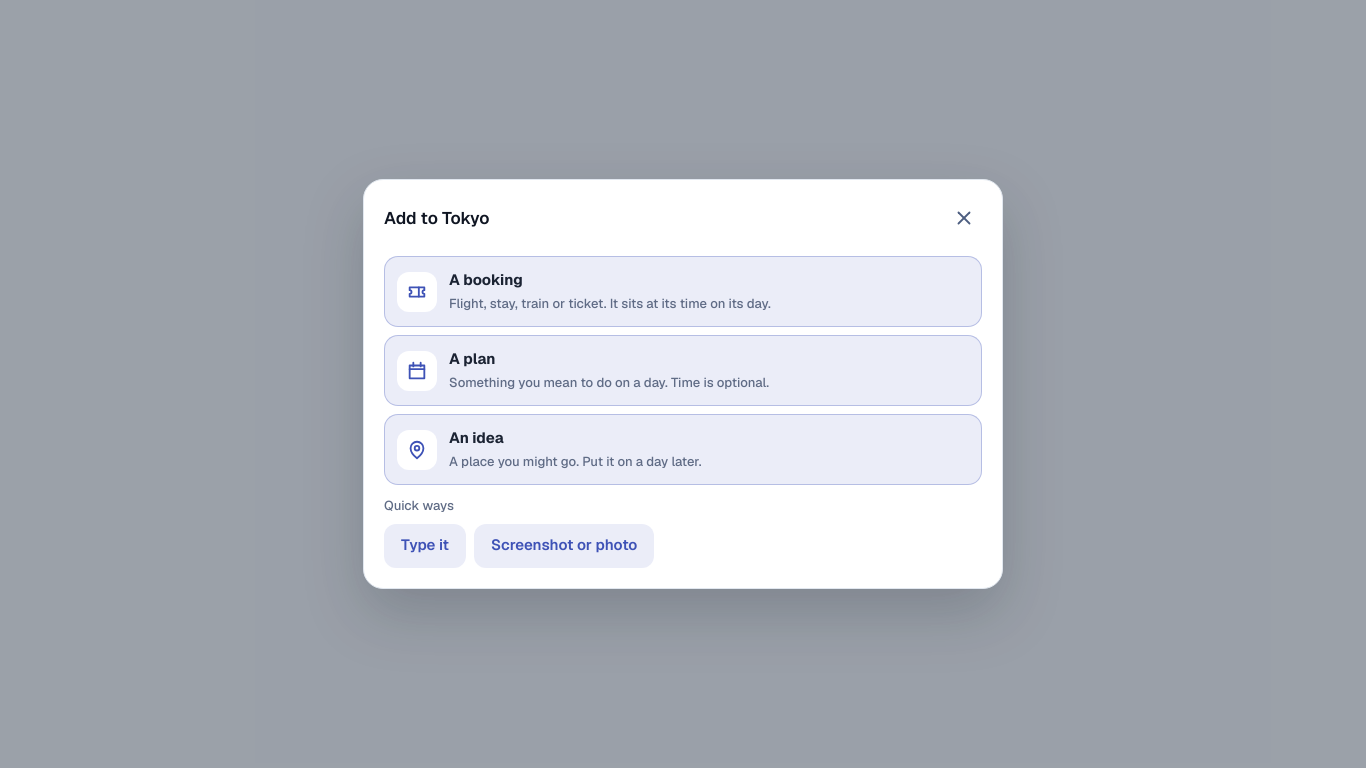
Test: A trip's Type it in browsers where scrollIntoView returns a promise › shows Nexus's reply and its buttons instead of crashing
Click the button "Type it" at (425, 546), box [384,524,466,568]
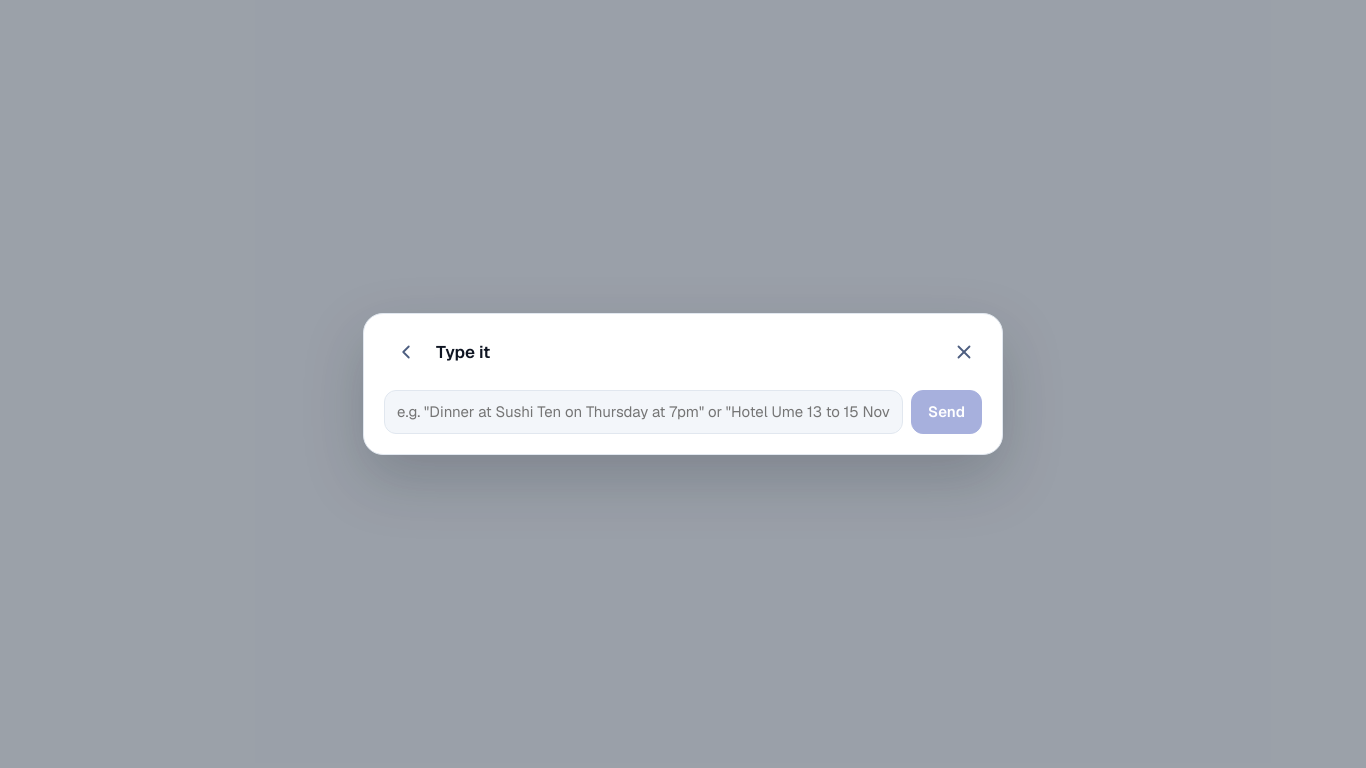
Type "Hotel Ume 13 to 15 Nov" into the field named "Tell Nexus about a booking" at (644, 412), box [384,390,903,434]
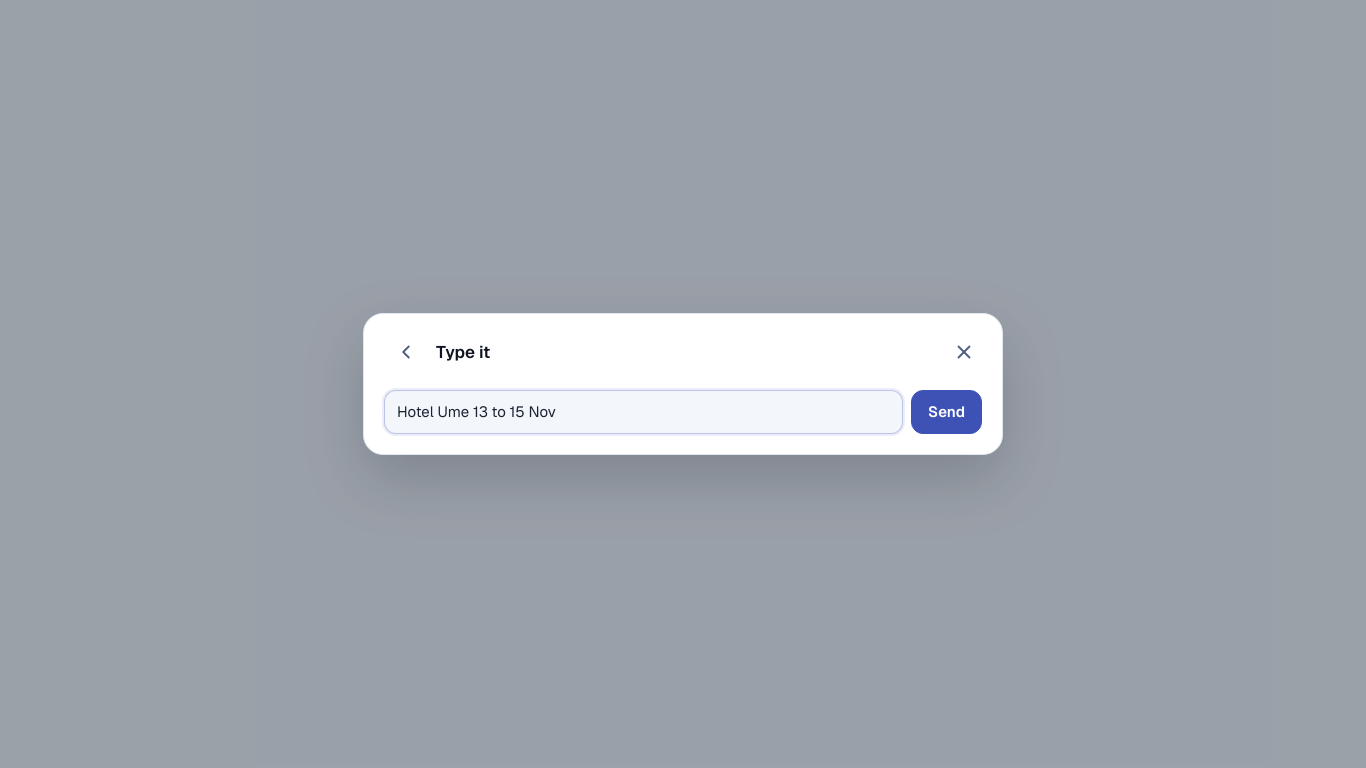
Click the button "Send" at (946, 412), box [911,390,982,434]
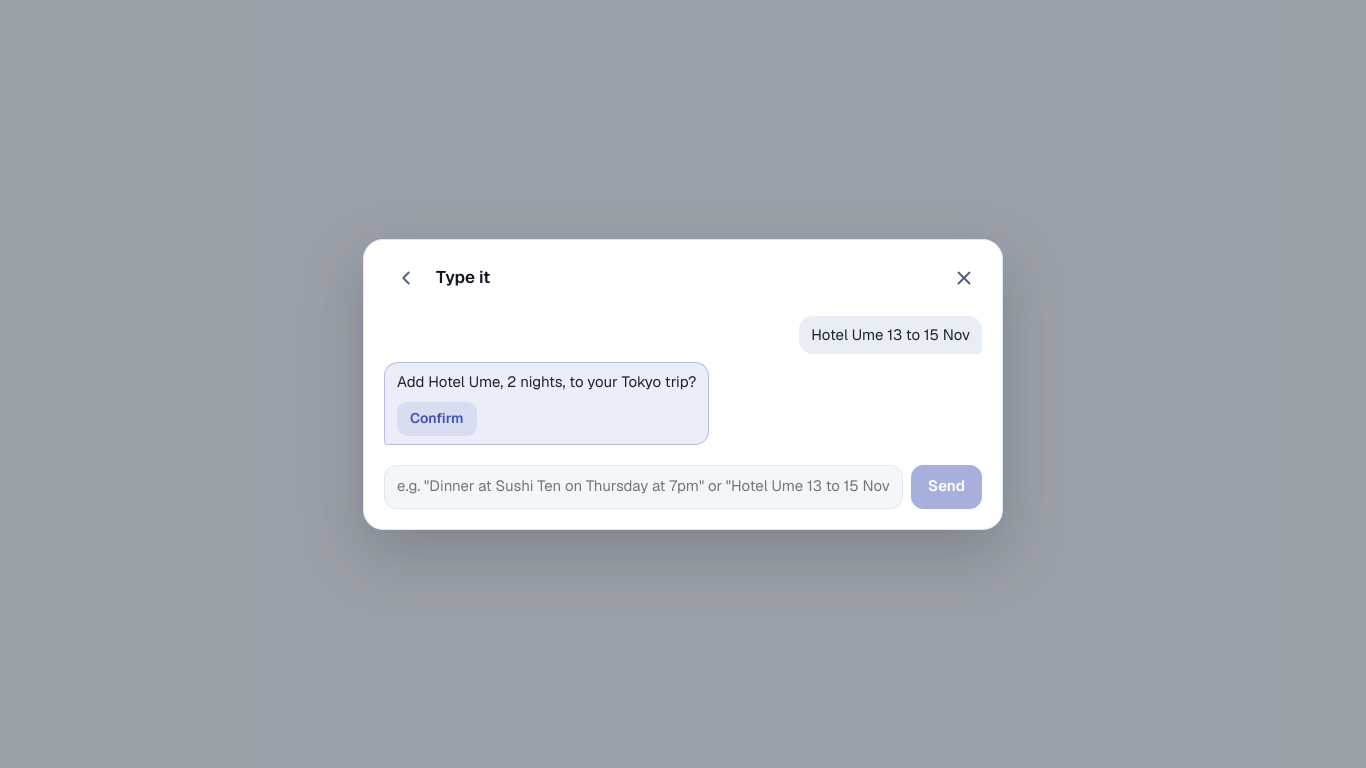
Check: the text "Add Hotel Ume, 2 nights, to your Tokyo trip?" is shown, box [397,371,696,394]
Check: the button "Confirm" is shown, box [397,402,476,436]
